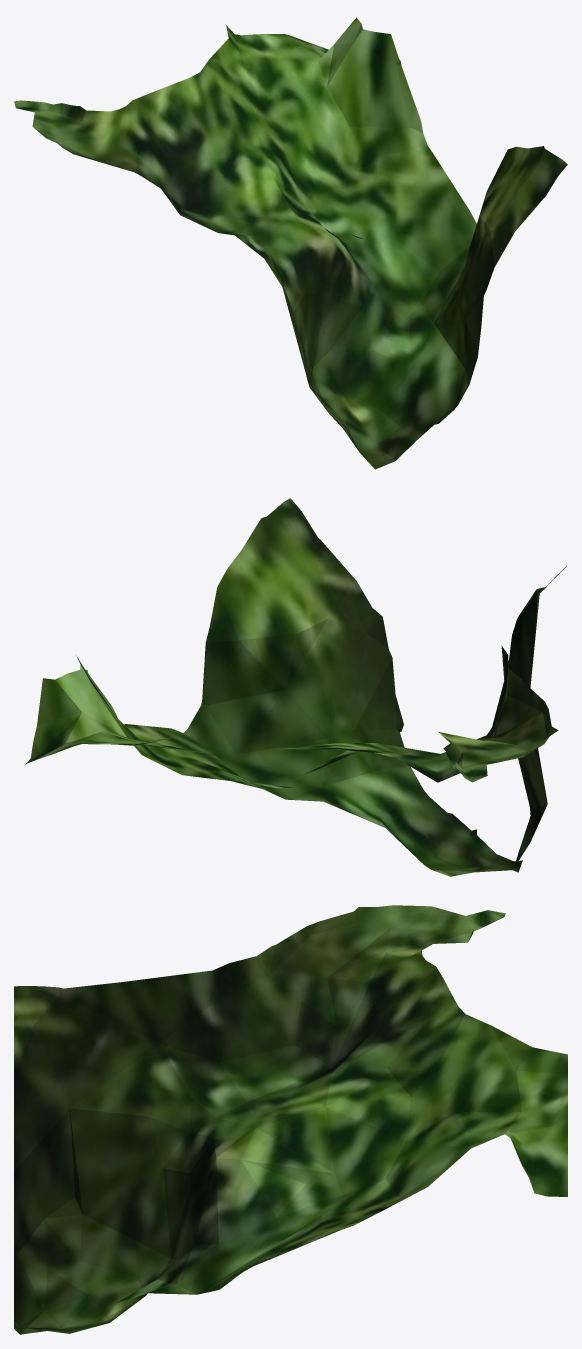
3 views of the same model, one above another, from view 1: azimuth 30°, elevation 25°; view 2: azimuth 150°, elevation 25°; view 3: azimuth 270°, elevation 25° (orthographic). The views are drawn at different scales.
Size of the model in its own units: 0.7759 by 0.5298 by 0.8373.
Materials: 3 (3 with a texture image).
